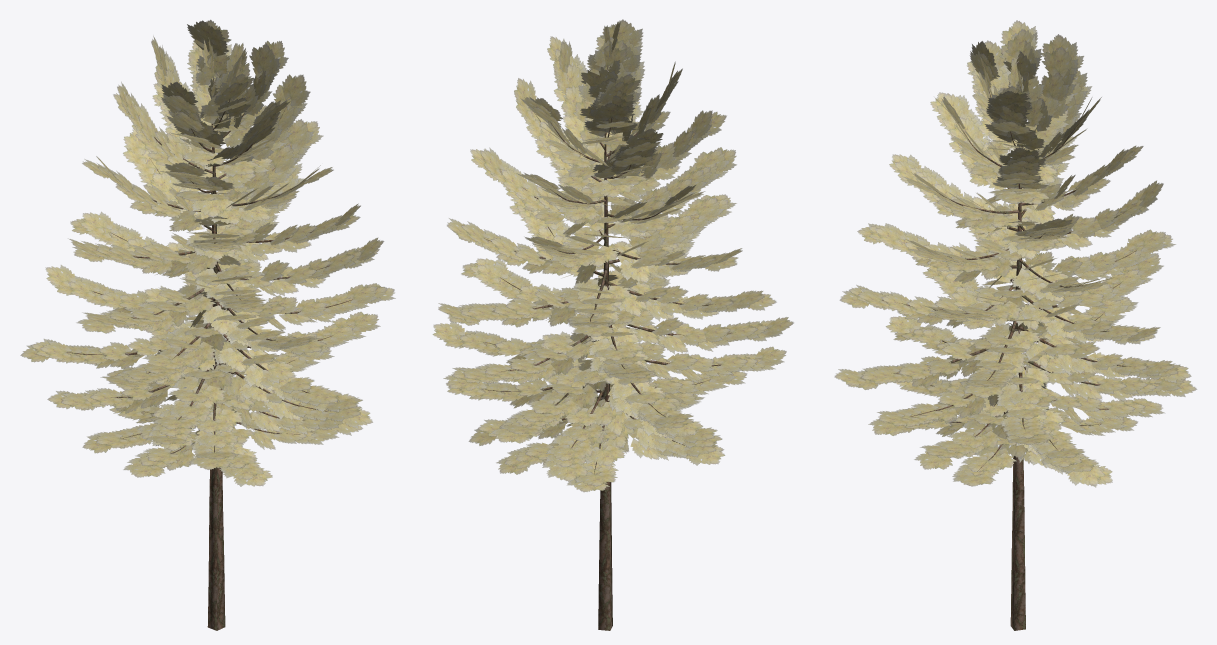
Rendered from Pino.glb.
3 views of the same model, side by side, from view 1: azimuth 30°, elevation 25°; view 2: azimuth 150°, elevation 25°; view 3: azimuth 270°, elevation 25° (orthographic).
Parts seen in each view (by area): view 1: leaves.001, tree.001; view 2: leaves.001, tree.001; view 3: leaves.001, tree.001.
Part boxes in pixels (<box>): leaves.001: <box>20,19,395,486</box>; tree.001: <box>67,77,352,630</box>; leaves.001: <box>432,19,793,492</box>; tree.001: <box>482,66,732,630</box>; leaves.001: <box>834,20,1196,487</box>; tree.001: <box>882,76,1136,630</box>.
Bounding box in the file's own units: 822 × 1473 × 826.
2 materials, 2 textured.
